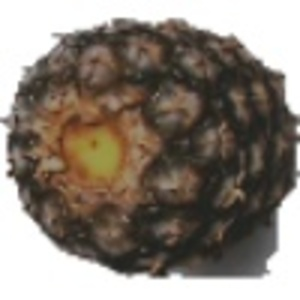abacaxi: (5, 11, 296, 280)
